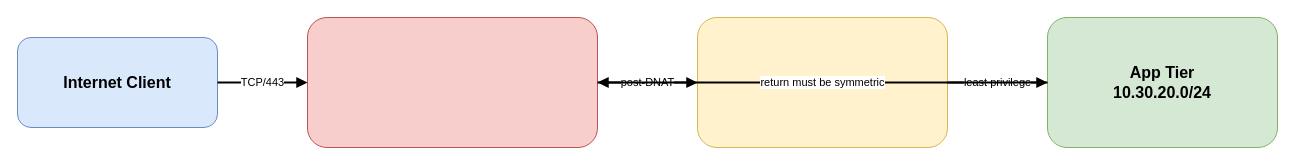
Image size: 1295x165. Some labels were removed from this diagram. The box of each missing label's shape, as (x1, y1, x2, y2) in pixels:
DMZ Service 10.20.10.50:443: (696, 16, 948, 148)
Perimeter NGFW DNAT + Policy + Inspection: (306, 16, 598, 148)
